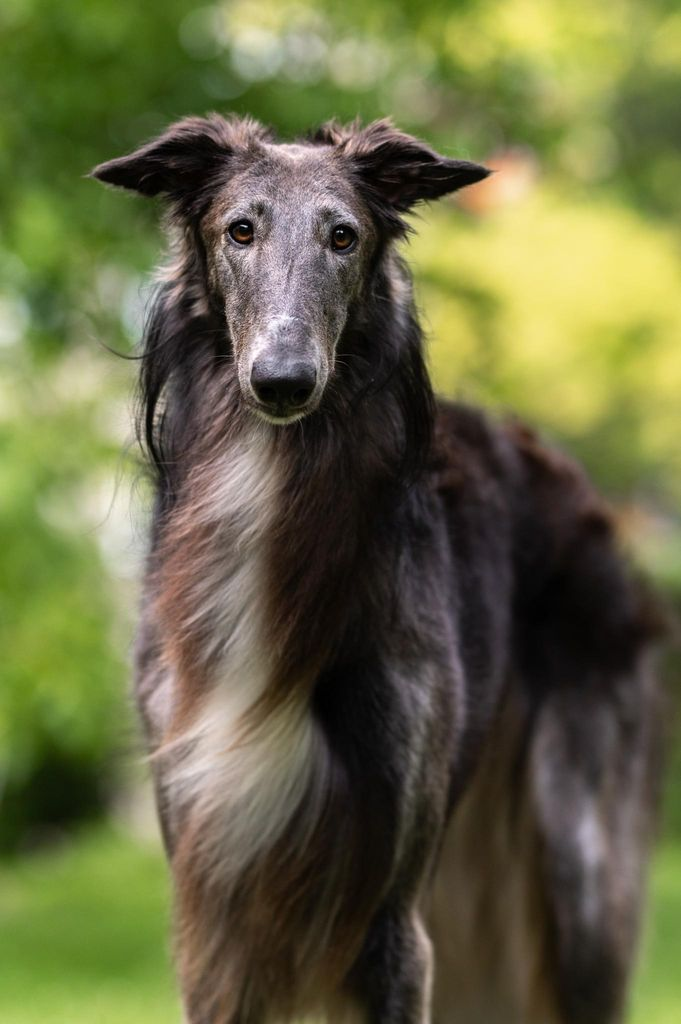borzoi: (70, 111, 663, 1024)
